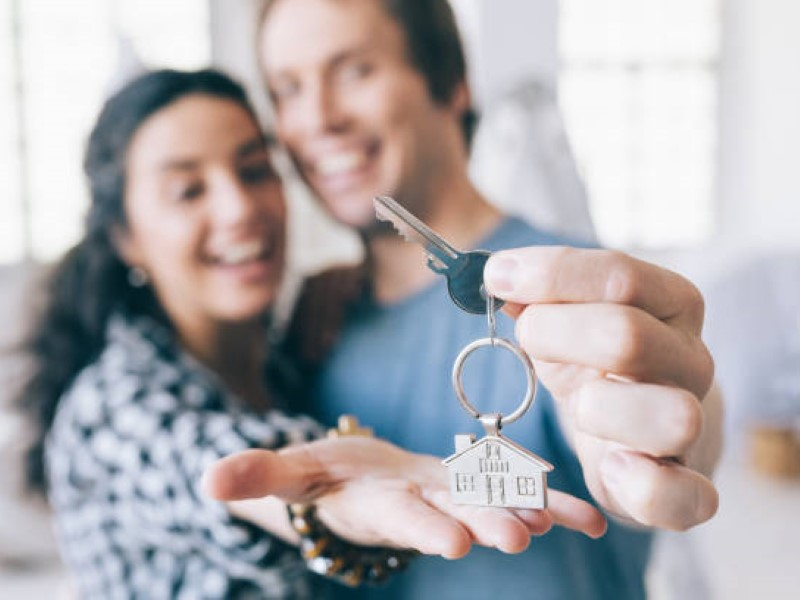key: (370, 193, 504, 320)
